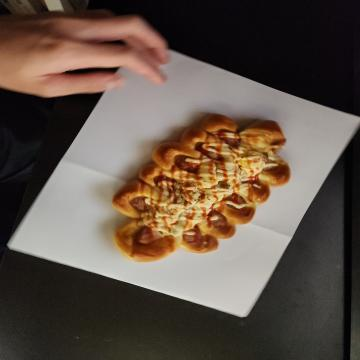pizza_bread: (113, 70, 263, 249)
